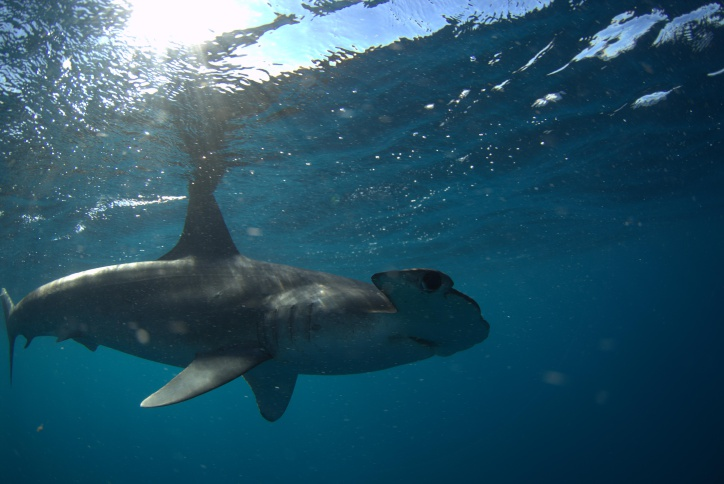Hammer: (1, 174, 502, 439)
